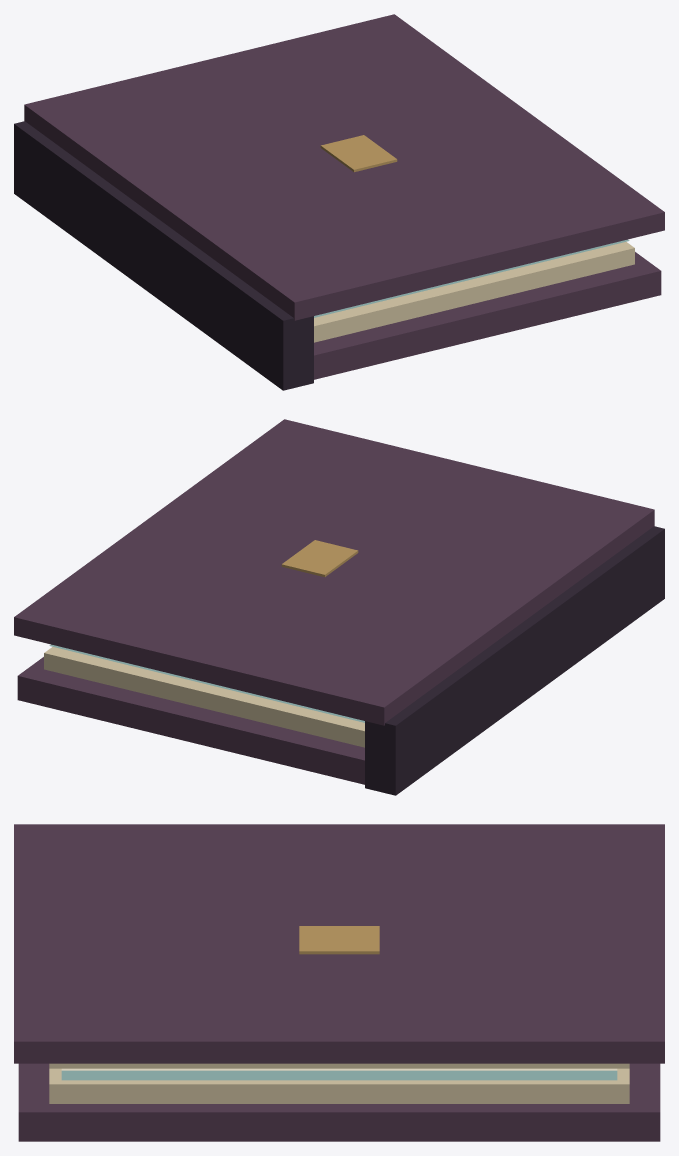
Rendered from book.glb.
The picture shows the model from 3 angles, top to bottom: view 1: azimuth 30°, elevation 25°; view 2: azimuth 150°, elevation 25°; view 3: azimuth 270°, elevation 25°; orthographic projection. The views are drawn at different scales.
Visible parts, largest first — view 1: BOOK_Front_Cover, BOOK_Spine, BOOK_Back_Cover, BOOK_Right_Stack, BOOK_Gold_Emblem, BOOK_SCREENSHOT_PAGE; view 2: BOOK_Front_Cover, BOOK_Spine, BOOK_Back_Cover, BOOK_Right_Stack, BOOK_Gold_Emblem, BOOK_SCREENSHOT_PAGE; view 3: BOOK_Front_Cover, BOOK_Back_Cover, BOOK_Right_Stack, BOOK_SCREENSHOT_PAGE, BOOK_Left_Stack, BOOK_Gold_Emblem, BOOK_DETAILS_PAGE.
Boxes of the visible parts, x1,y1,x2,y2 form: BOOK_Front_Cover: (24, 14, 664, 320); BOOK_Spine: (14, 121, 313, 390); BOOK_Back_Cover: (314, 252, 661, 379); BOOK_Right_Stack: (314, 242, 634, 342); BOOK_Gold_Emblem: (320, 135, 397, 172); BOOK_SCREENSHOT_PAGE: (314, 239, 629, 317); BOOK_Front_Cover: (14, 419, 654, 725); BOOK_Spine: (365, 526, 664, 795); BOOK_Back_Cover: (17, 657, 364, 784); BOOK_Right_Stack: (44, 647, 364, 747); BOOK_Gold_Emblem: (281, 540, 358, 577); BOOK_SCREENSHOT_PAGE: (49, 644, 364, 722); BOOK_Front_Cover: (14, 824, 664, 1063); BOOK_Back_Cover: (18, 1063, 660, 1141); BOOK_Right_Stack: (49, 1068, 629, 1103); BOOK_SCREENSHOT_PAGE: (61, 1070, 617, 1080); BOOK_Left_Stack: (49, 1063, 629, 1068); BOOK_Gold_Emblem: (299, 926, 379, 954); BOOK_DETAILS_PAGE: (61, 1068, 617, 1070).
Bounding box in the file's own units: 0.6559 × 0.1455 × 0.8061.
